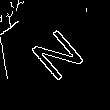N_SE: (21, 23, 89, 87)
